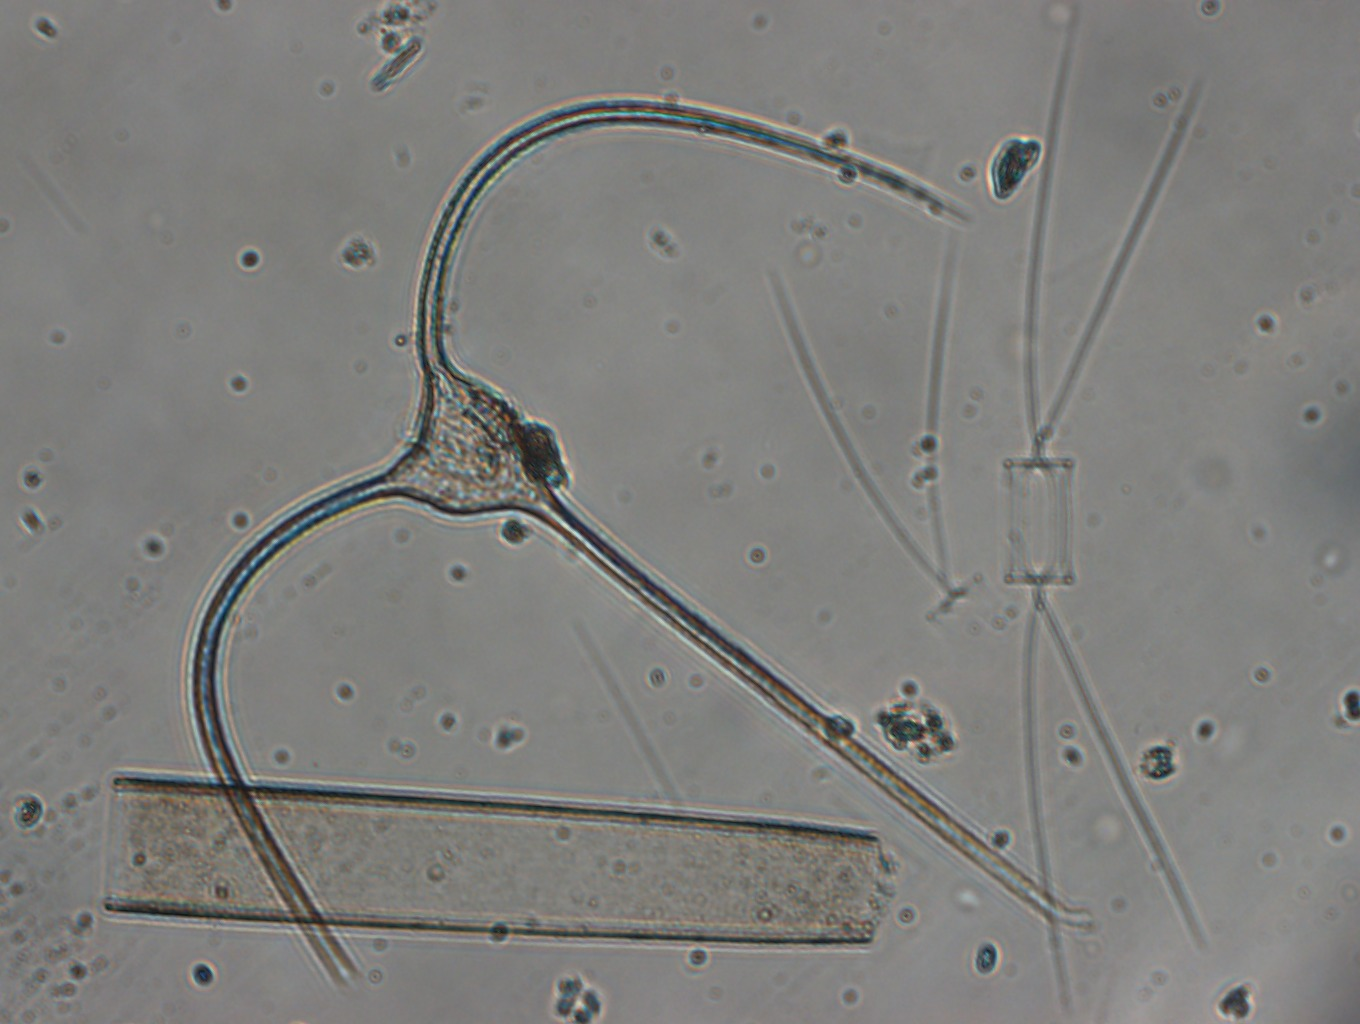ceratium trichoceros: (194, 90, 1072, 976)
chaetoceros: (994, 3, 1217, 1001)
